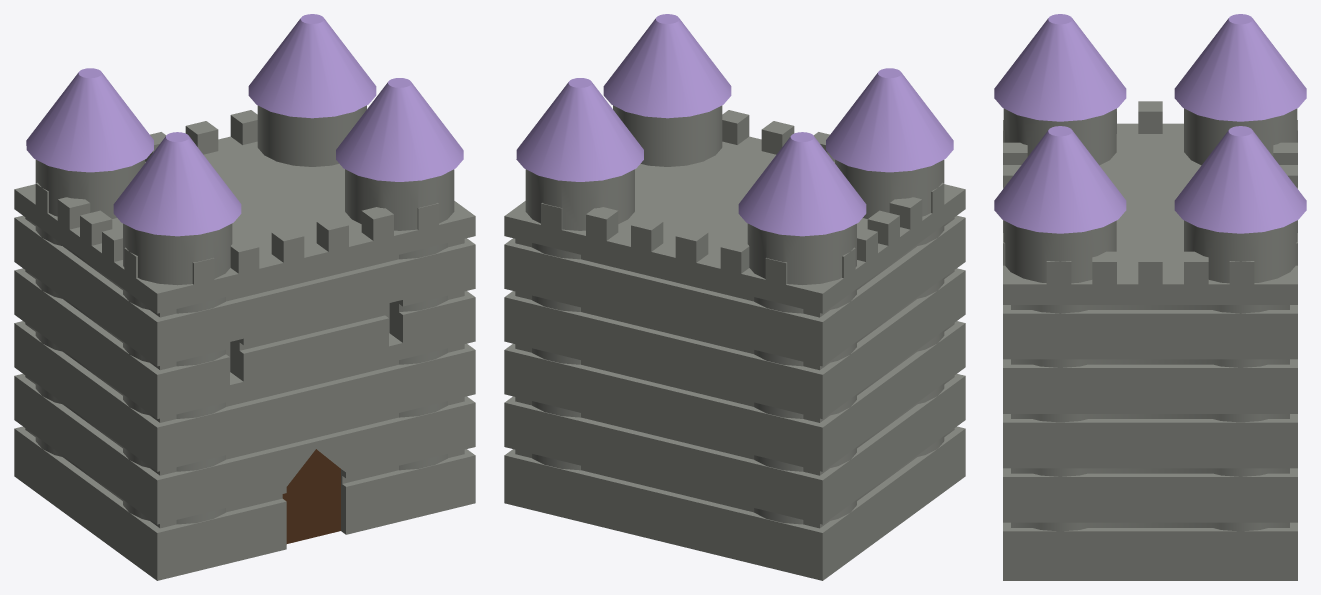
File: burg_lavendel.glb
3 renders of one model, left to right at view 1: azimuth 30°, elevation 25°; view 2: azimuth 150°, elevation 25°; view 3: azimuth 270°, elevation 25°, orthographic. The views are drawn at different scales.
Visible parts, largest first — view 1: burg_lavendel; view 2: burg_lavendel; view 3: burg_lavendel.
Boxes of the visible parts, x1,y1,x2,y2 form: burg_lavendel: [14, 14, 475, 580]; burg_lavendel: [504, 14, 965, 580]; burg_lavendel: [994, 14, 1306, 580].
Size of the model in its own units: 14.6 by 17.18 by 11.43.
